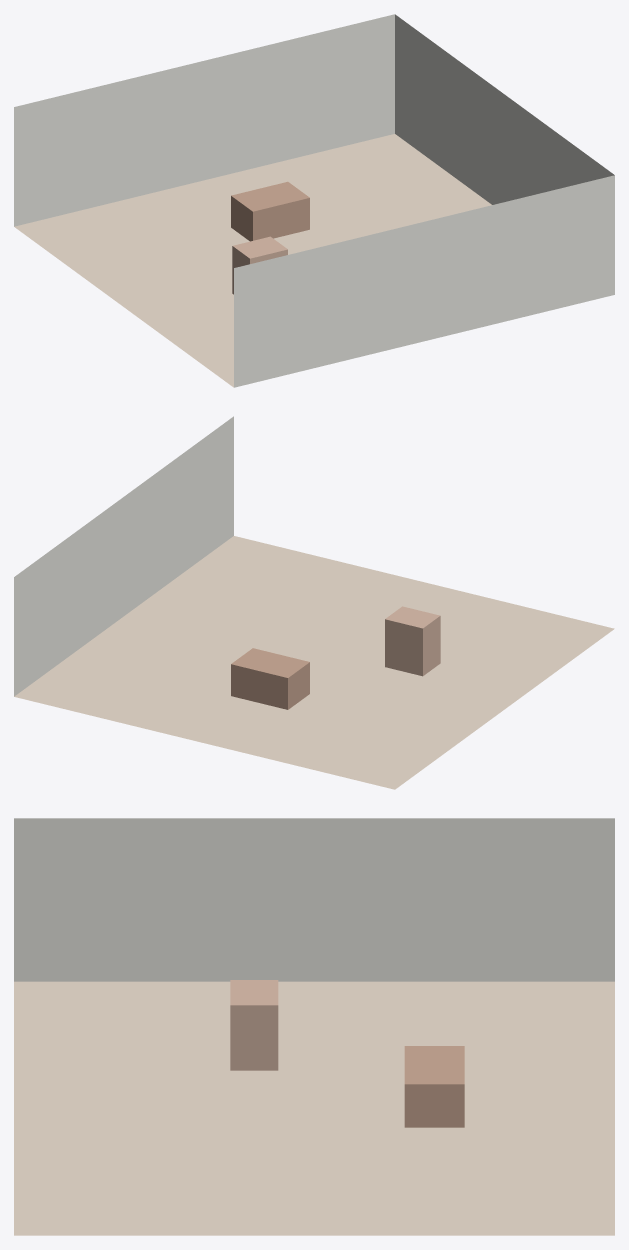
The model's file is bedroom.glb.
3 views of the same model, one above another, from view 1: azimuth 30°, elevation 25°; view 2: azimuth 150°, elevation 25°; view 3: azimuth 270°, elevation 25° (orthographic). The views are drawn at different scales.
Visible parts, largest first — view 1: Walls, Floor, Furniture1, Furniture2; view 2: Floor, Walls, Furniture1, Furniture2; view 3: Floor, Walls, Furniture1, Furniture2.
Boxes of the visible parts, x1,y1,x2,y2 form: Walls: [14, 14, 614, 387]; Floor: [14, 134, 491, 387]; Furniture1: [231, 181, 309, 241]; Furniture2: [232, 236, 287, 294]; Floor: [14, 536, 614, 789]; Walls: [14, 416, 233, 696]; Furniture1: [231, 648, 309, 709]; Furniture2: [385, 606, 440, 676]; Floor: [14, 981, 614, 1235]; Walls: [14, 818, 614, 981]; Furniture1: [404, 1046, 464, 1127]; Furniture2: [230, 980, 278, 1070].
Size of the model in its own units: 10 by 3 by 10.
